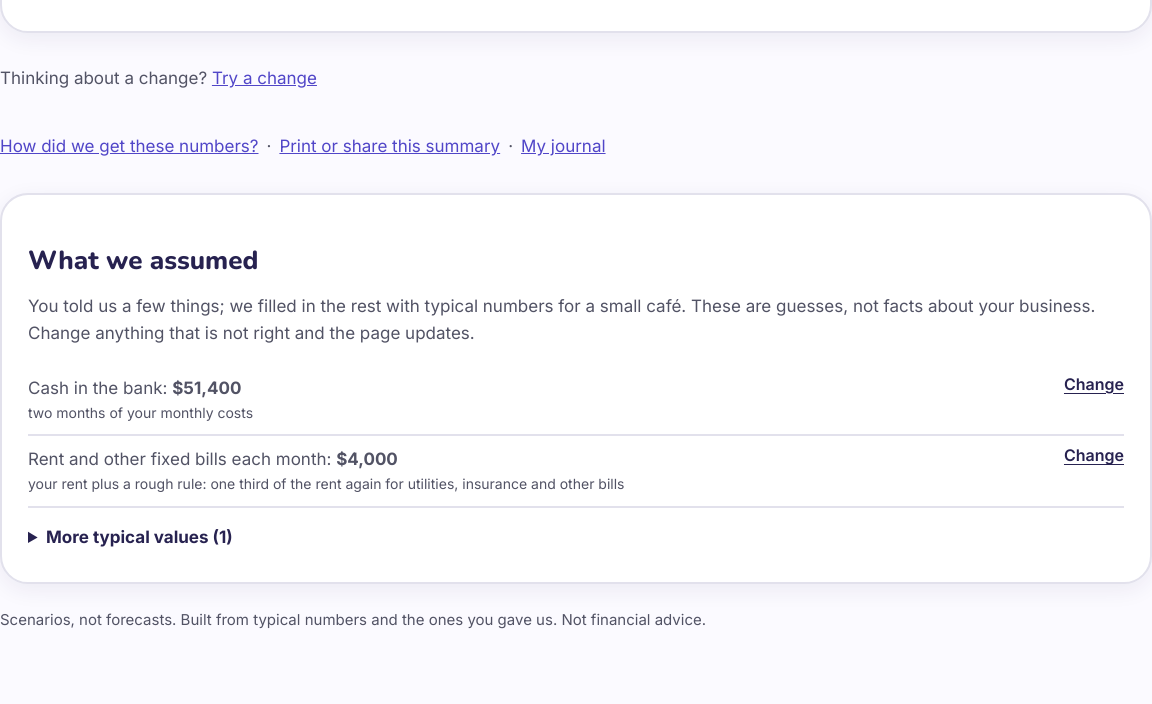
Today: what we assumed › can be cancelled without saving
(page scrolled)
Click the button with aria-label "Change Cash in the bank" at (1094, 384), box [1064,374,1124,394]
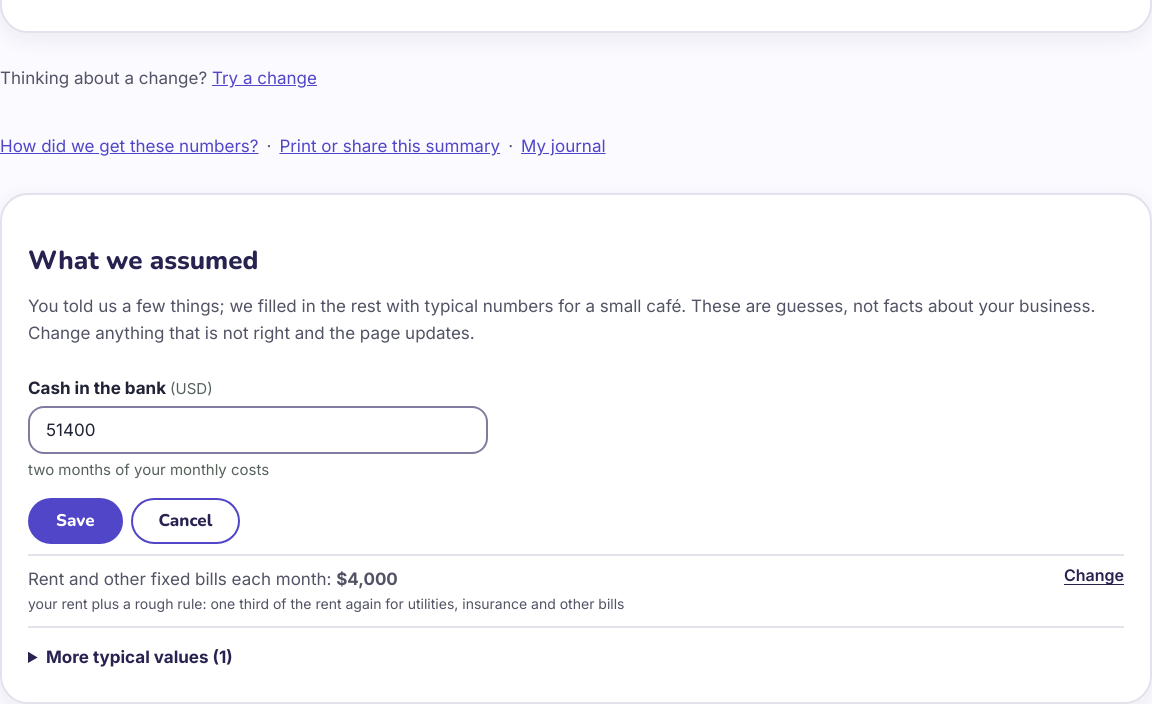
Click the button "Cancel" at (185, 521), box [130,498,240,544]
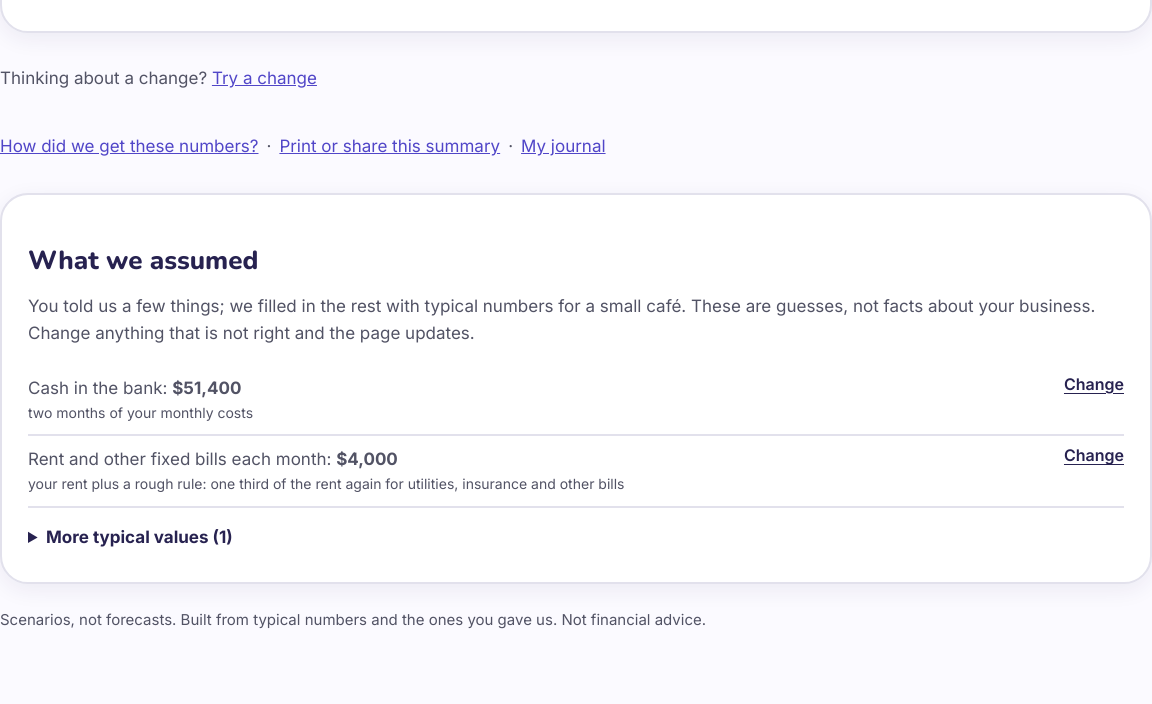
Result: the button with aria-label "Change Cash in the bank" is shown at [1064,374,1124,394]
